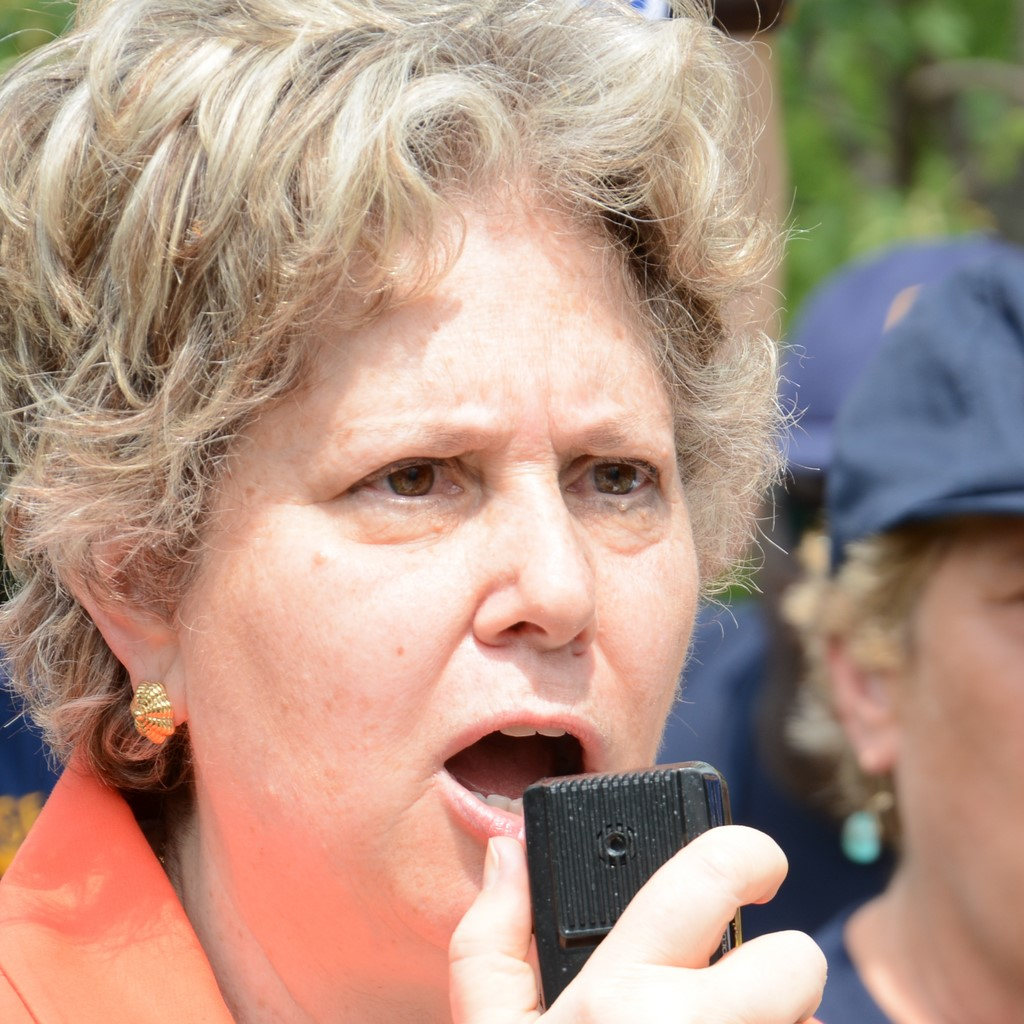sin_mascara: (49, 104, 711, 960)
